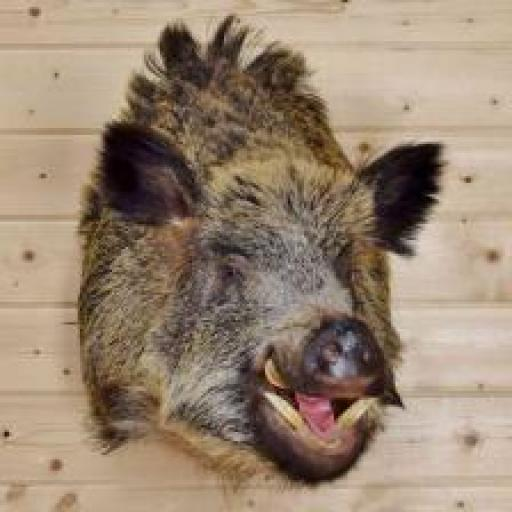Pig: (78, 14, 446, 488)
